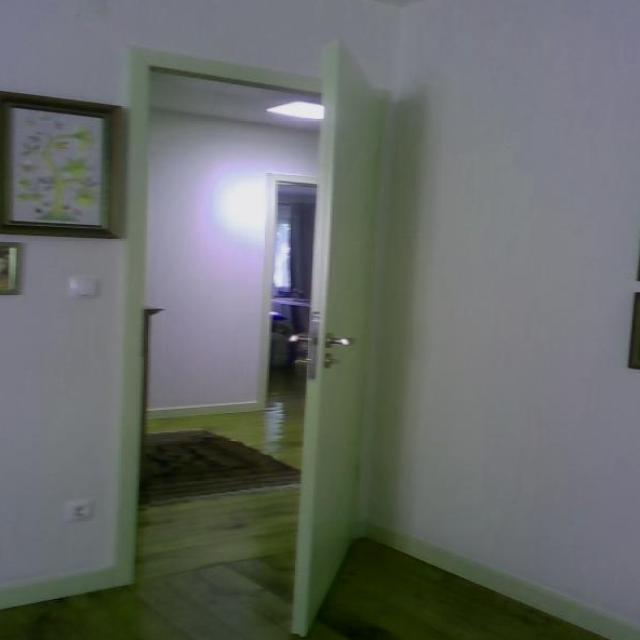Door: (283, 22, 392, 637)
